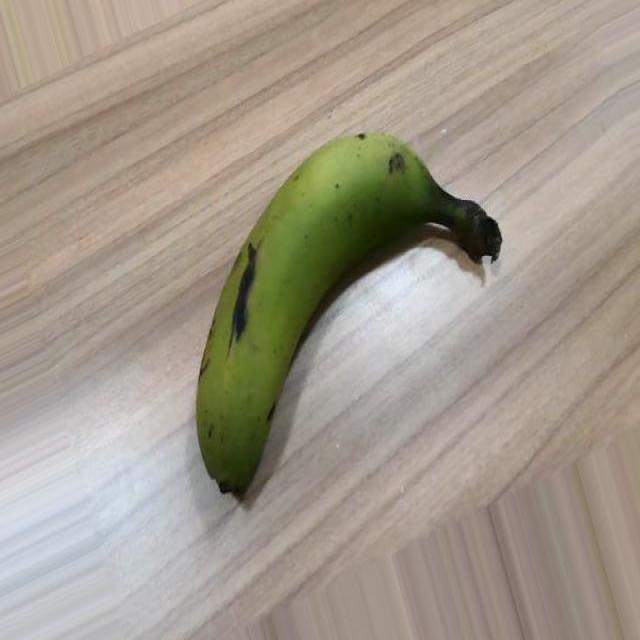Unripe: (196, 131, 503, 498)
